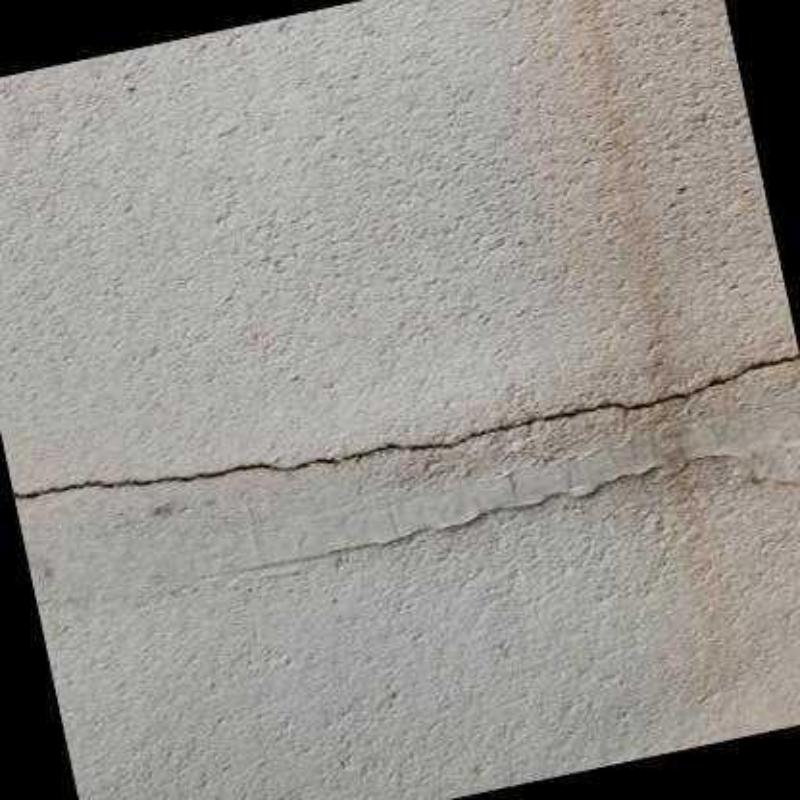pothole: (11, 352, 800, 500)
